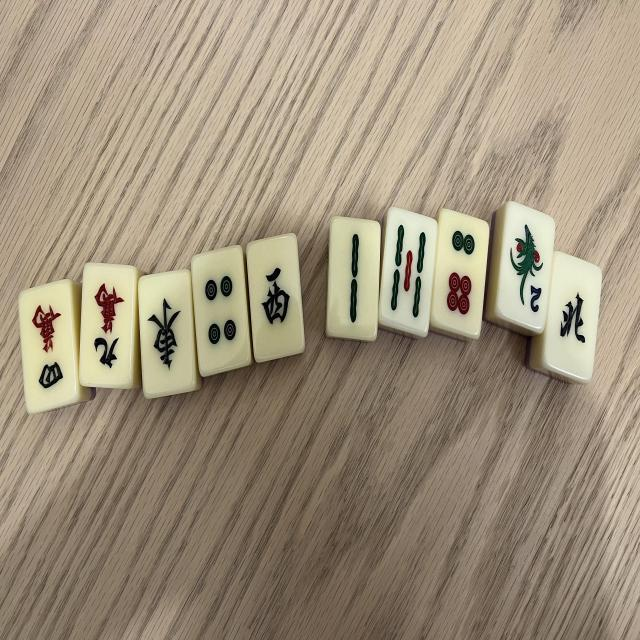east: (143, 274, 200, 400)
f2: (495, 203, 556, 333)
m4: (17, 283, 75, 413)
m9: (80, 268, 135, 390)
north: (543, 256, 602, 384)
s2: (327, 218, 380, 340)
s5: (380, 212, 437, 336)
t4: (194, 246, 253, 377)
t6: (430, 212, 490, 339)
west: (247, 238, 306, 365)
